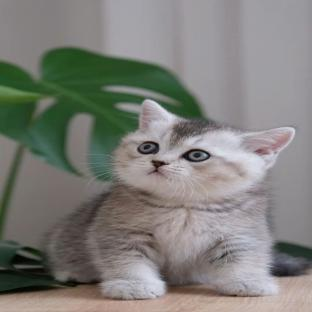Animal: (44, 100, 311, 300)
